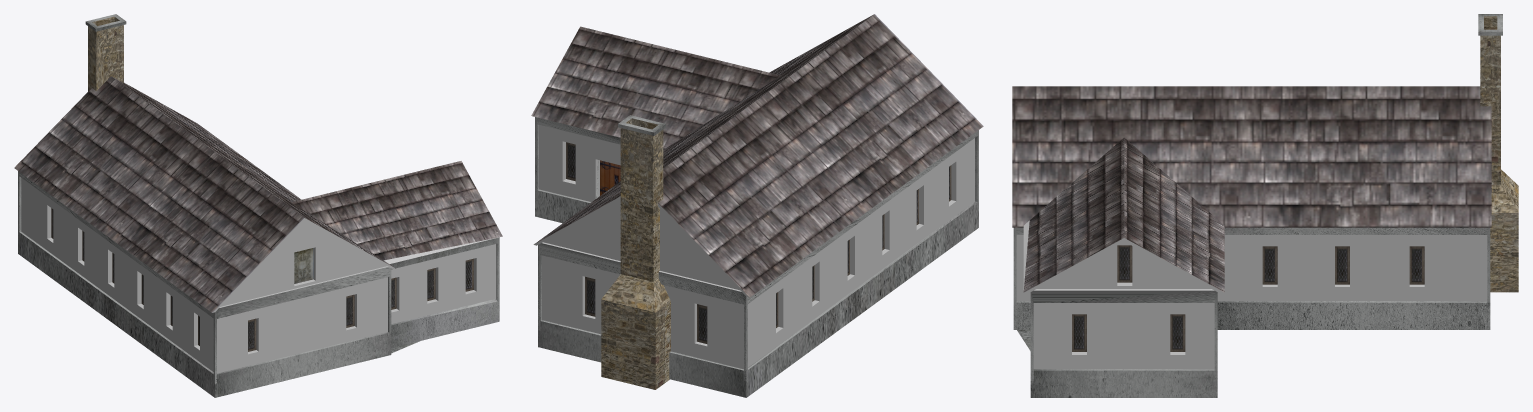
Rendered from VBuilding2.fbx.
3 views of the same model, side by side, from view 1: azimuth 30°, elevation 25°; view 2: azimuth 150°, elevation 25°; view 3: azimuth 270°, elevation 25° (orthographic). The views are drawn at different scales.
Visible parts, largest first — view 1: VBuilding2; view 2: VBuilding2; view 3: VBuilding2.
Part boxes in pixels (left/top/right/bottom): VBuilding2: left=14, top=14, right=502, bottom=397; VBuilding2: left=531, top=14, right=983, bottom=397; VBuilding2: left=1012, top=14, right=1518, bottom=397.
Bounding box in the file's own units: 2060 × 1408 × 2528.
